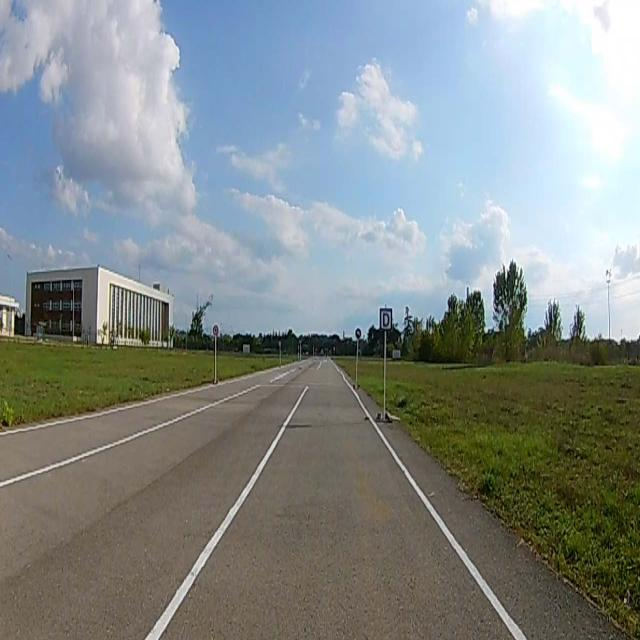durak: (380, 307, 392, 329)
